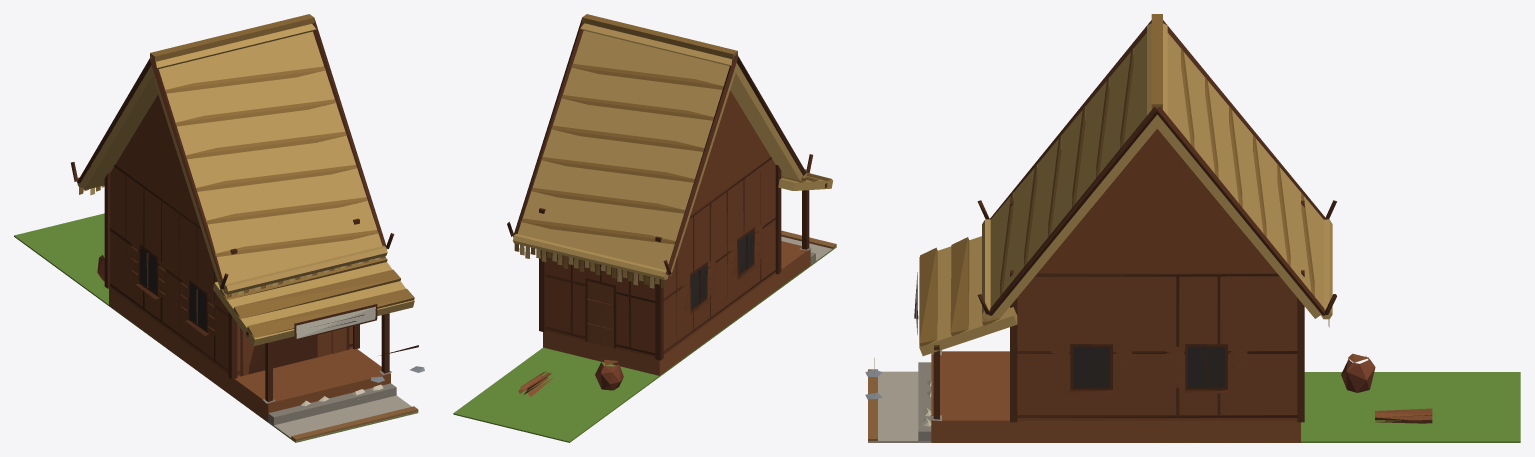
Rendered from bay2_one.glb.
3 views of the same model, side by side, from view 1: azimuth 30°, elevation 25°; view 2: azimuth 150°, elevation 25°; view 3: azimuth 270°, elevation 25° (orthographic). The views are drawn at different scales.
Visible parts, largest first — view 1: body, windows; view 2: body, windows; view 3: body, windows.
Part boxes in pixels (x1=…): body: x1=14, y1=14, x2=424, y2=442; windows: x1=140, y1=247, x2=206, y2=329; body: x1=453, y1=14, x2=836, y2=442; windows: x1=691, y1=230, x2=753, y2=308; body: x1=865, y1=14, x2=1520, y2=442; windows: x1=1073, y1=346, x2=1224, y2=387.
Bounding box in the file's own units: 5.54 × 9.39 × 15.96.
